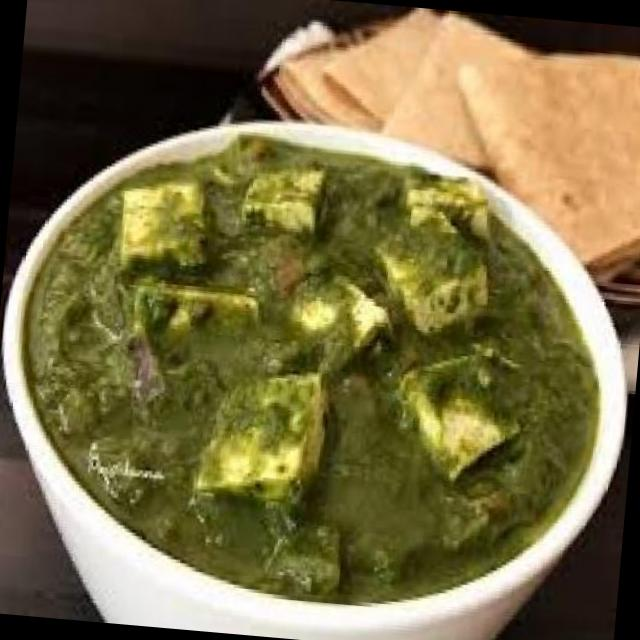palak_paneer: (1, 119, 621, 628)
